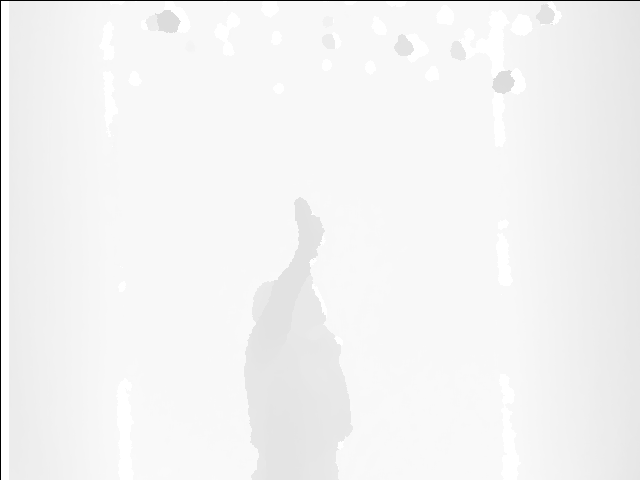hand: (292, 195, 327, 246)
